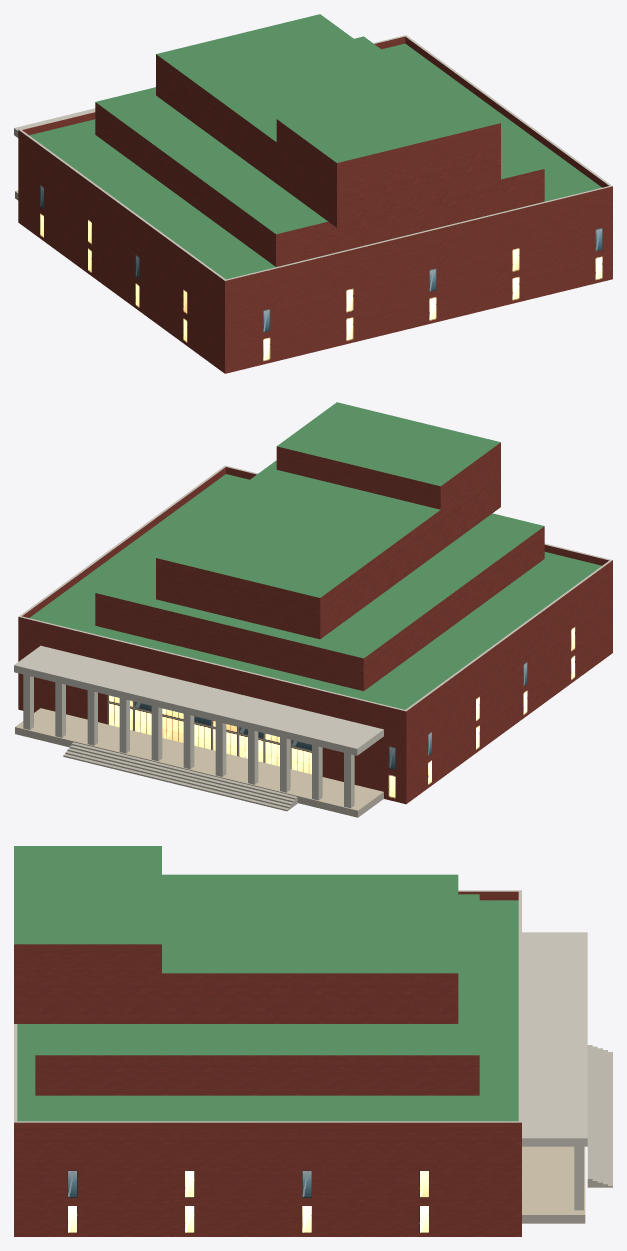
File: yatsen-hall.glb
3 views of the same model, one above another, from view 1: azimuth 30°, elevation 25°; view 2: azimuth 150°, elevation 25°; view 3: azimuth 270°, elevation 25° (orthographic). The views are drawn at different scales.
Parts seen in each view (by area): view 1: yatsen-hall.001; view 2: yatsen-hall.001; view 3: yatsen-hall.001.
Part boxes in pixels (<box>): yatsen-hall.001: <box>14,14,612,373</box>; yatsen-hall.001: <box>14,402,612,817</box>; yatsen-hall.001: <box>14,846,612,1236</box>.
Size of the model in its own units: 52 by 23.5 by 56.6.
1 material, 1 textured.
